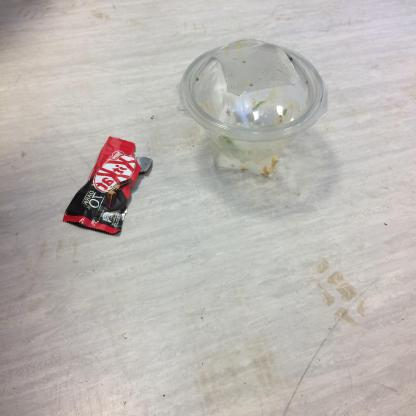plastik: (175, 37, 331, 181), (62, 136, 154, 238)
